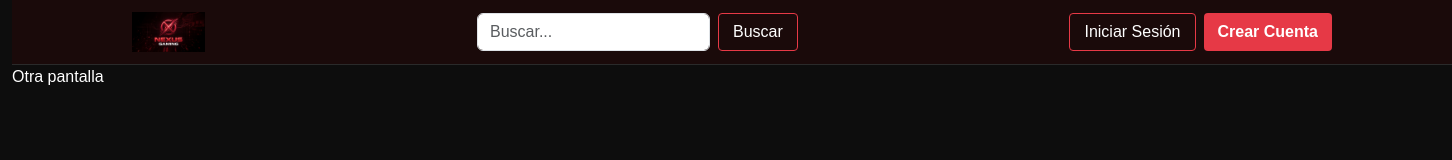
Test: Header (organismo) › Iniciar Sesión navega a /login
Click the button "Iniciar Sesión".
click(1132, 32)  # box [1070, 13, 1196, 51]
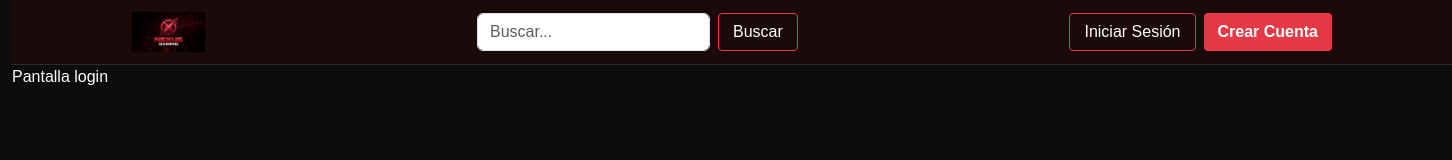
Result: the text "Pantalla login" is shown at [12, 68, 108, 85]
